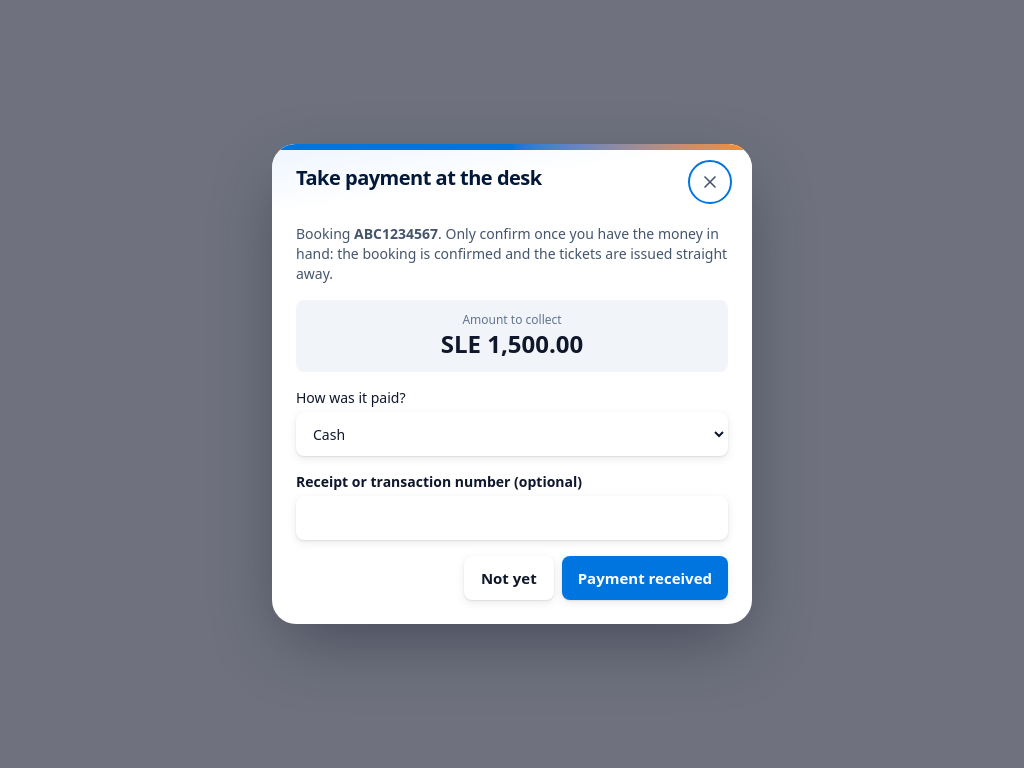
DeskPaymentDialog › shows the server refusal and does not report success
Click the button "Payment received" at (645,578), box x1=562 y1=556 x2=728 y2=600
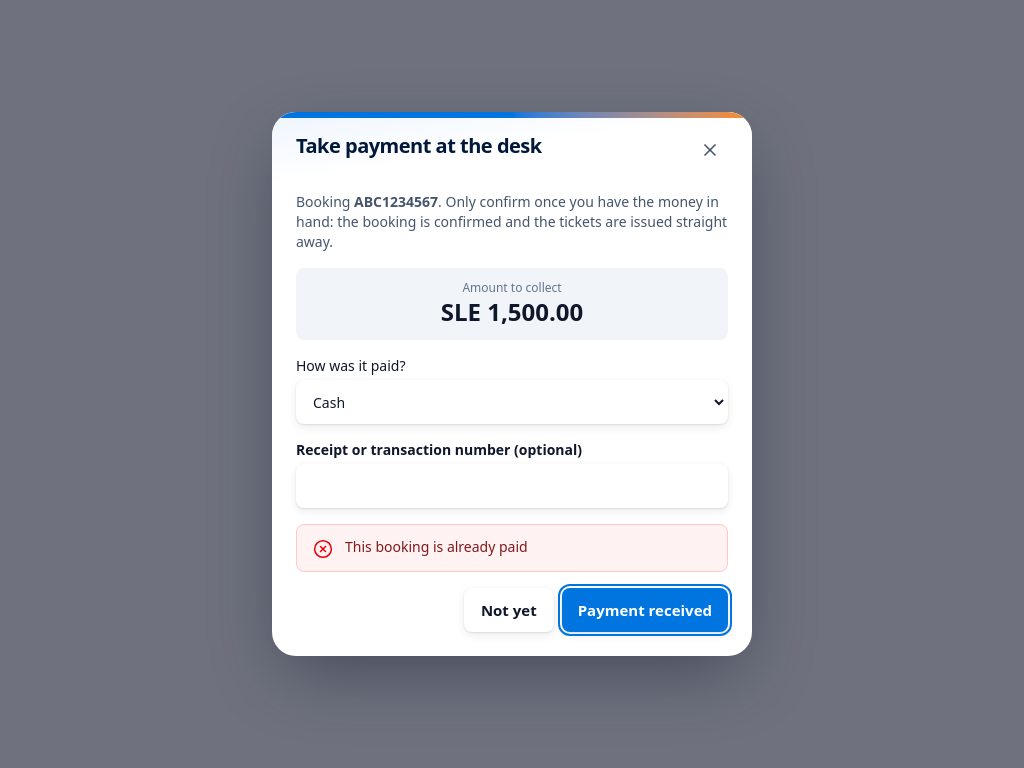
Expected: the text "This booking is already paid" is shown, x1=345 y1=537 x2=528 y2=557
